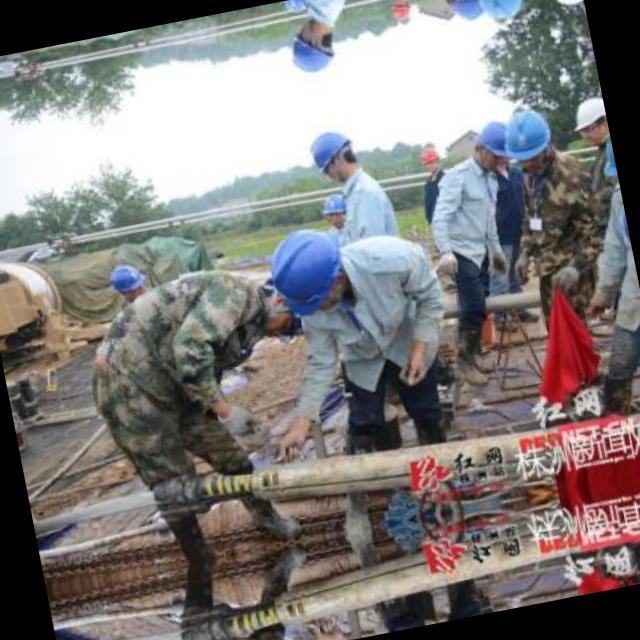helmet: (256, 218, 356, 324), (490, 100, 555, 172), (301, 122, 364, 188), (280, 16, 342, 82), (471, 116, 517, 173), (567, 90, 609, 148), (462, 0, 527, 30), (104, 261, 148, 304), (318, 188, 354, 228), (442, 0, 488, 26), (418, 140, 444, 173), (389, 0, 416, 26), (541, 0, 583, 15), (280, 0, 314, 18)
